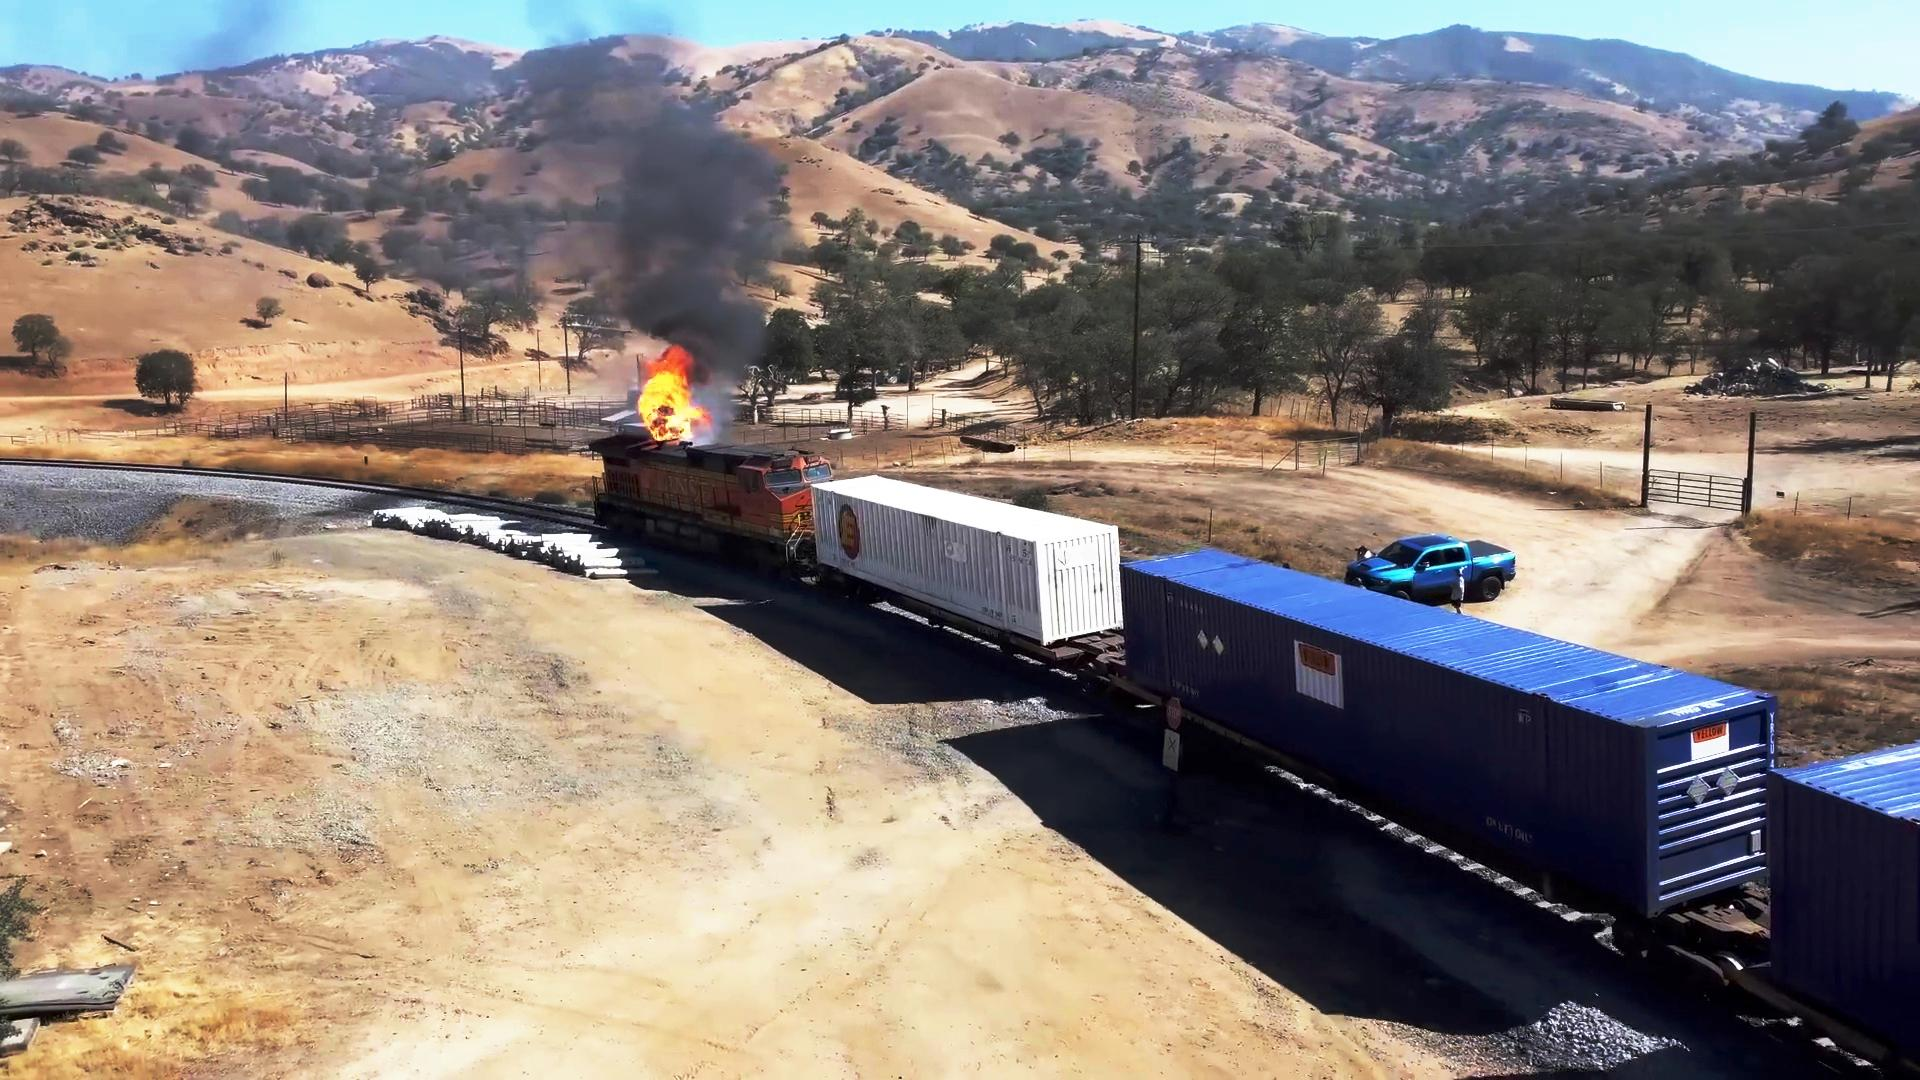fire: (613, 360, 697, 433)
smoke: (618, 90, 781, 327)
